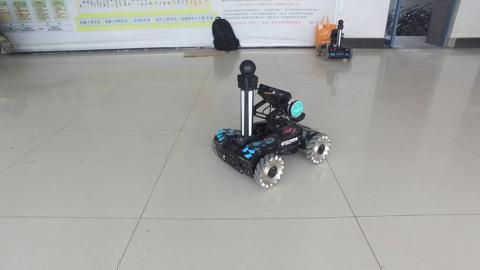bag: (210, 15, 243, 53), (315, 15, 338, 44)
chariot: (210, 57, 331, 189), (313, 19, 353, 60)
